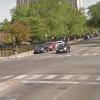Crosswalk: (6, 64, 93, 86)
